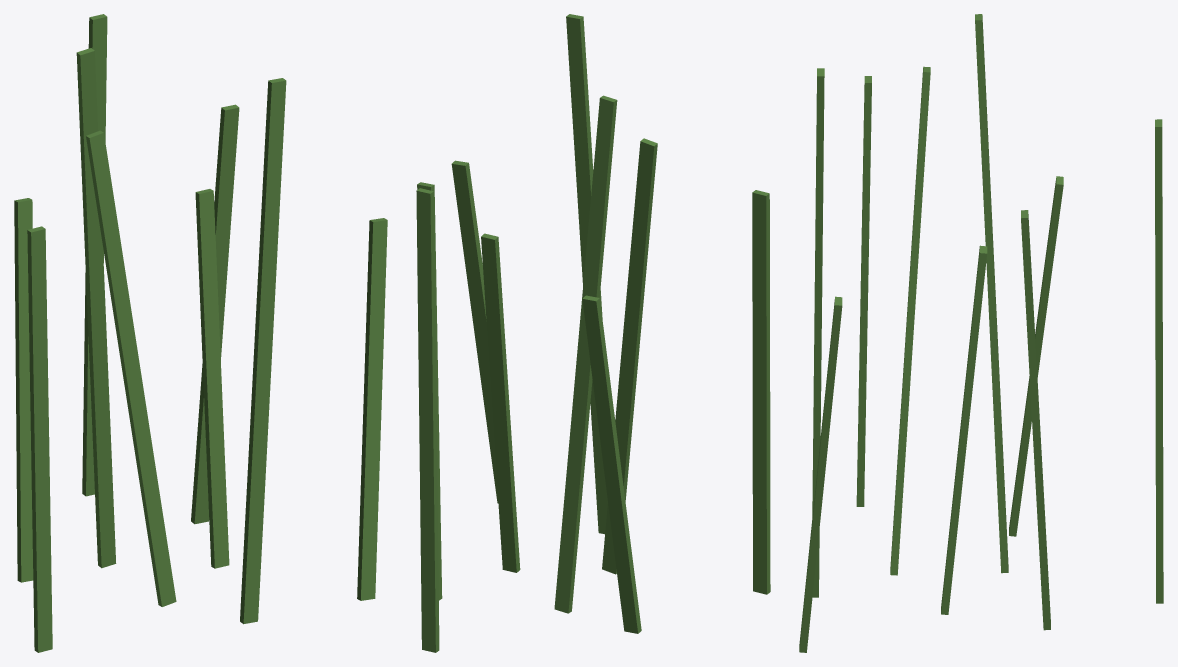
File: f18-grass-tuft-clump.glb
3 renders of one model, left to right at view 1: azimuth 30°, elevation 25°; view 2: azimuth 150°, elevation 25°; view 3: azimuth 270°, elevation 25°, orthographic. The views are drawn at different scales.
Parts seen in each view (by area): view 1: part0; view 2: part0; view 3: part0.
Boxes of the visible parts, x1,y1,x2,y2 form: part0: (14,14,387,652); part0: (416,14,770,652); part0: (799,14,1163,652).
Size of the model in its own units: 376 by 561 by 344.
